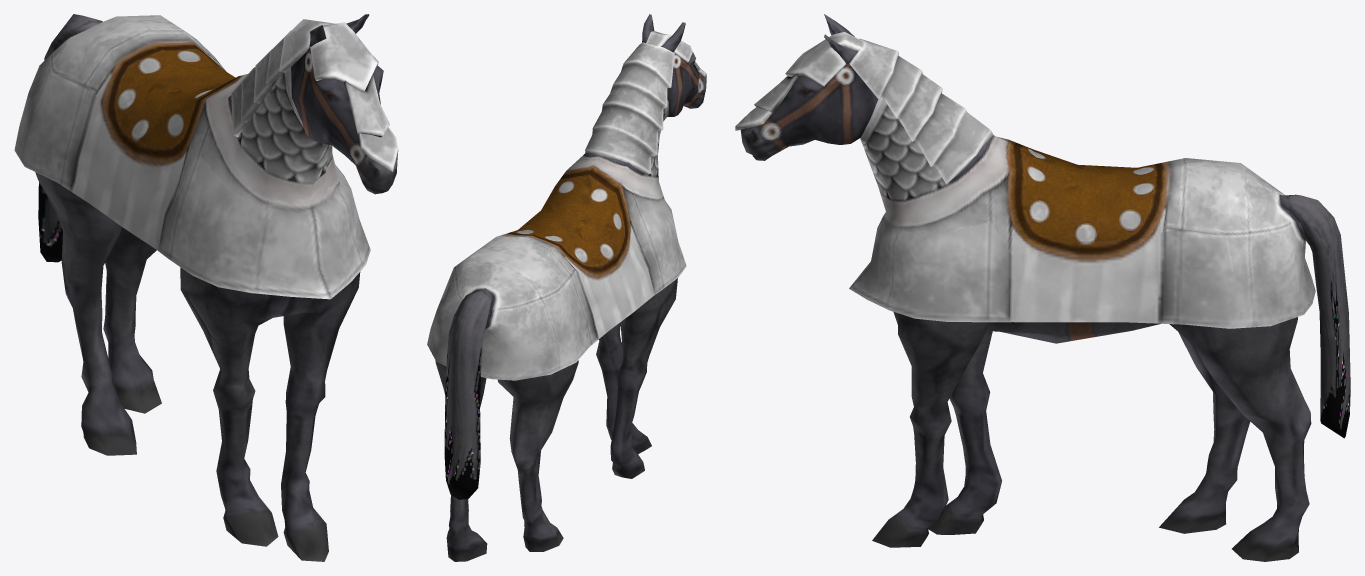
File: body-heavycavalry.glb
3 views of the same model, side by side, from view 1: azimuth 30°, elevation 25°; view 2: azimuth 150°, elevation 25°; view 3: azimuth 270°, elevation 25° (orthographic). The views are drawn at different scales.
Bounding box in the file's own units: 0.9048 × 2.51 × 2.72.
1 material, 1 textured.
